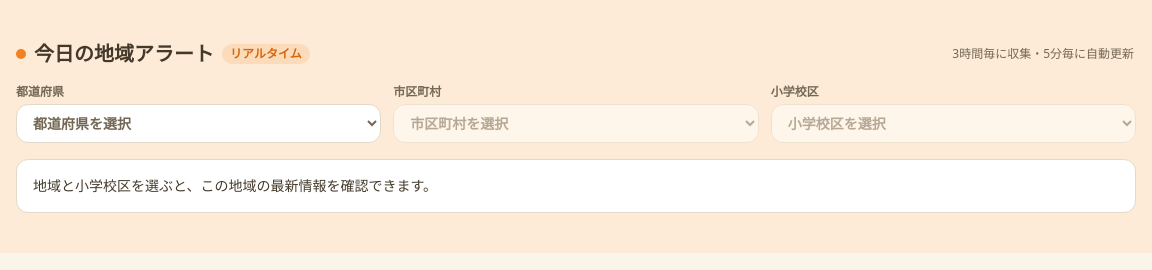
Test: loading states of the region selects › keeps the chosen city selected and enabled while its districts load
The width and height of the screenshot is (1152, 270).
Later steps or results of the test are not shown.
Select "東京都" in the dropdown labelled "都道府県": coordinates (199, 124) [16,104,381,143]
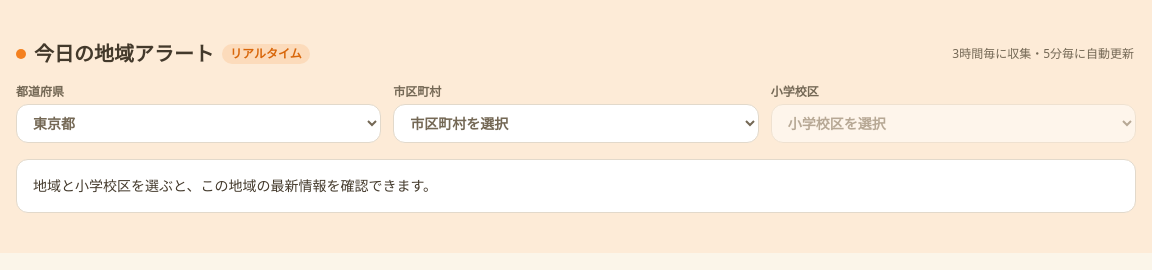
Select "新宿区" in the dropdown labelled "市区町村": coordinates (576, 124) [393,104,759,143]
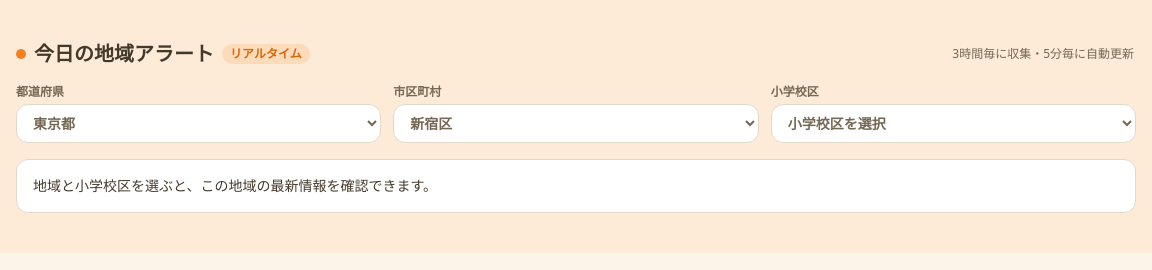
Result: the dropdown labelled "市区町村" is enabled at [393,104,759,143]
Result: the dropdown labelled "小学校区" is enabled at [771,104,1136,143]
